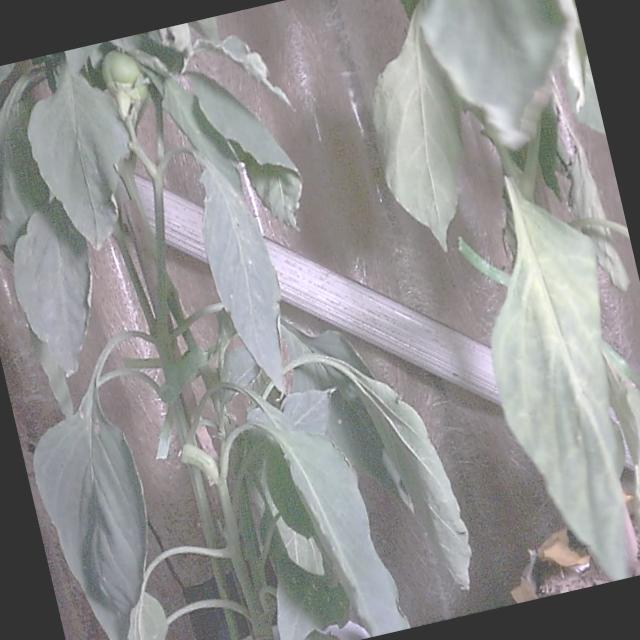Leaf: (492, 179, 627, 578), (34, 388, 147, 639), (422, 0, 566, 147), (373, 14, 462, 250), (202, 162, 284, 390), (29, 69, 129, 248), (14, 202, 90, 374), (129, 592, 167, 639)
